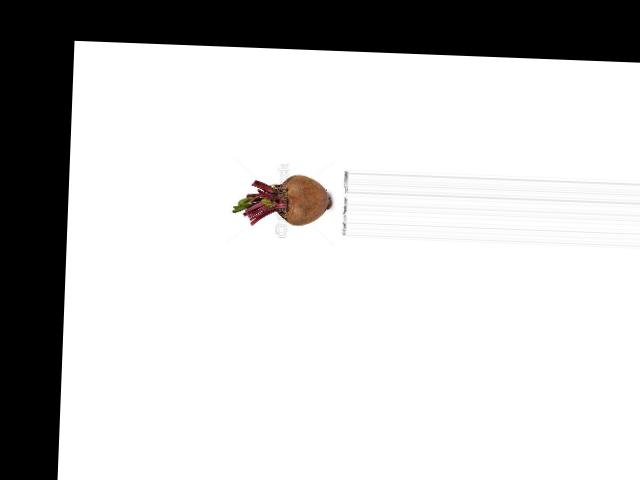beet: (232, 171, 332, 228)
